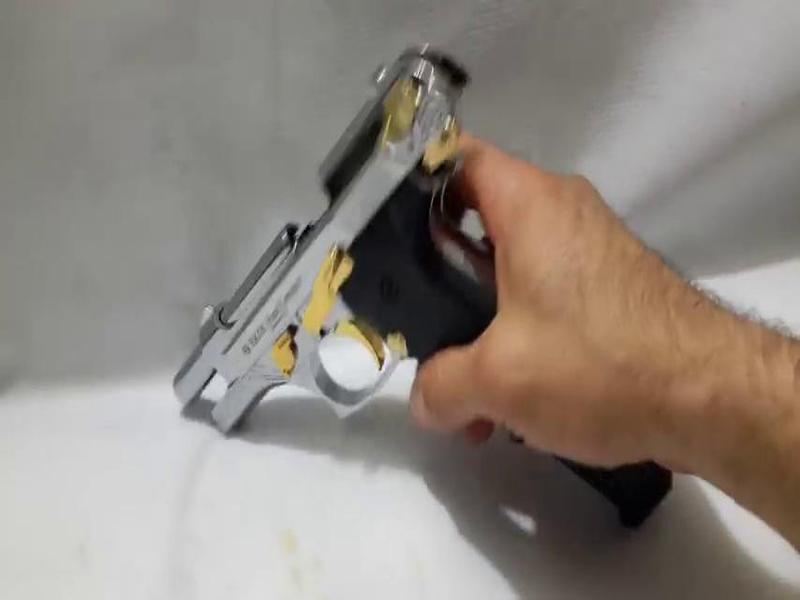Pistola: (184, 41, 568, 535)
